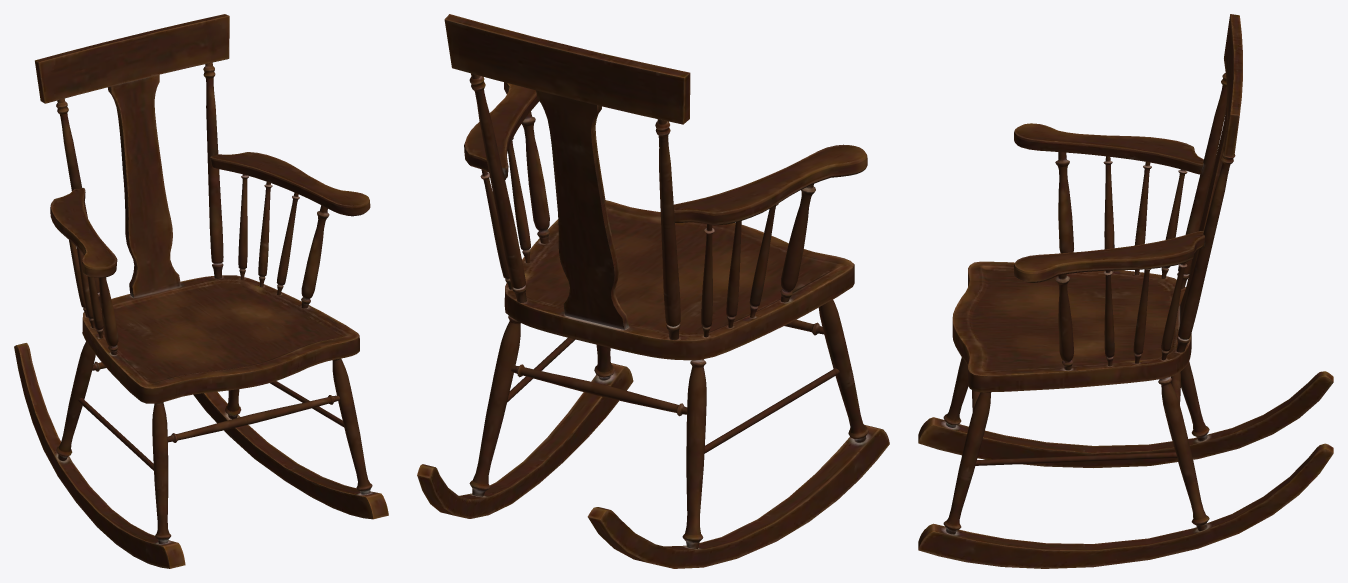
File: Rockingchair_01.glb
3 renders of one model, left to right at view 1: azimuth 30°, elevation 25°; view 2: azimuth 150°, elevation 25°; view 3: azimuth 270°, elevation 25°, orthographic. The views are drawn at different scales.
Parts seen in each view (by area): view 1: Rockingchair_01; view 2: Rockingchair_01; view 3: Rockingchair_01.
Boxes of the visible parts, x1,y1,x2,y2 form: Rockingchair_01: (14,14,388,568); Rockingchair_01: (417,14,889,568); Rockingchair_01: (918,14,1333,568).
Bounding box in the file's own units: 0.7081 × 0.9949 × 0.8335.
1 material, 1 textured.
